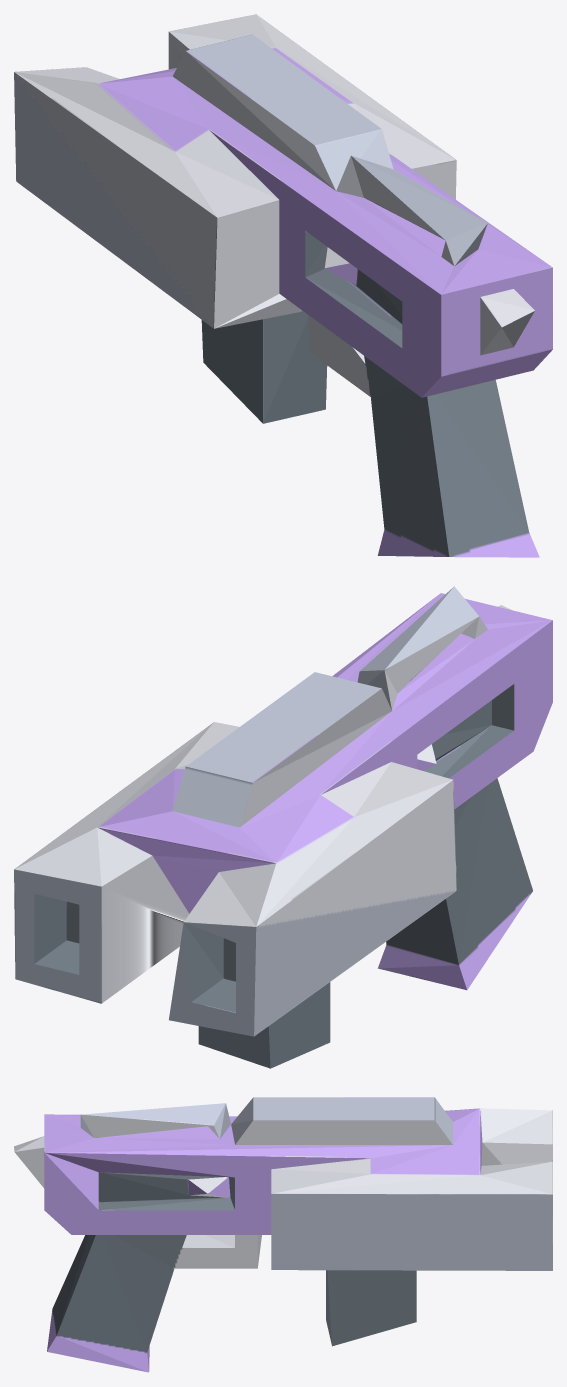
Rendered from shotgun 1.fbx.
3 views of the same model, one above another, from view 1: azimuth 30°, elevation 25°; view 2: azimuth 150°, elevation 25°; view 3: azimuth 270°, elevation 25° (orthographic). The views are drawn at different scales.
Parts seen in each view (by area): view 1: shotgun; view 2: shotgun; view 3: shotgun.
Part boxes in pixels (x1,y1,x2,y2): shotgun: (14, 14, 552, 557); shotgun: (14, 586, 552, 1068); shotgun: (14, 1097, 552, 1372).
Size of the model in its own units: 12.14 by 16.9 by 33.23.
